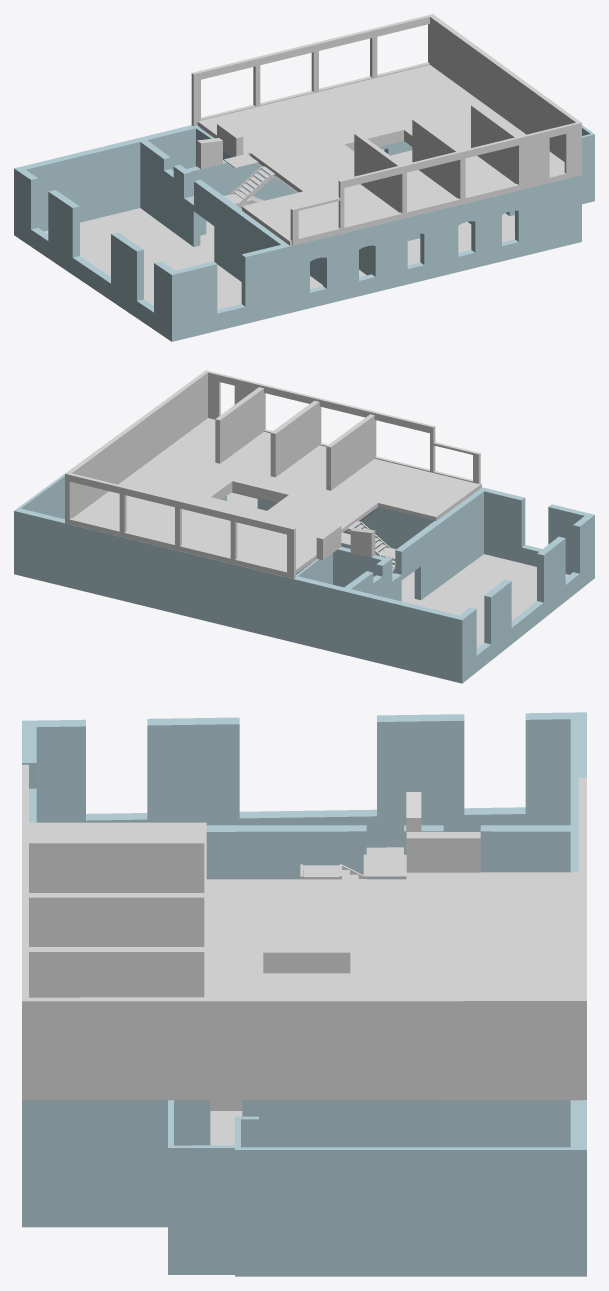
The model's file is levels-and-stairs-002.glb.
The picture shows the model from 3 angles, top to bottom: view 1: azimuth 30°, elevation 25°; view 2: azimuth 150°, elevation 25°; view 3: azimuth 270°, elevation 25°; orthographic projection. The views are drawn at different scales.
Parts seen in each view (by area): view 1: OG 2, floor-og3, OG 3 Neo, floor-og2, OG 3 inner, stairs, OG 3 Legacy.001, OG 3 Legacy.002; view 2: OG 2, floor-og3, OG 3 Neo, OG 3 inner, floor-og2, OG 3 Legacy.001, OG 3 Legacy.002, stairs; view 3: OG 2, OG 3 Neo, floor-og3, OG 3 inner, floor-og2, OG 3 Legacy.002, stairs.
Boxes of the visible parts, x1,y1,x2,y2 form: OG 2: (14,125,594,341); floor-og3: (197,65,564,245); OG 3 Neo: (191,14,581,245); floor-og2: (44,149,514,309); OG 3 inner: (354,104,519,212); stairs: (191,154,274,206); OG 3 Legacy.001: (197,138,222,168); OG 3 Legacy.002: (217,122,243,157); OG 2: (14,465,594,683); floor-og3: (73,418,481,573); OG 3 Neo: (65,370,480,578); OG 3 inner: (215,387,374,490); floor-og2: (227,492,568,648); OG 3 Legacy.001: (350,528,375,557); OG 3 Legacy.002: (316,524,341,560); stairs: (341,521,395,575); OG 2: (22,712,586,1276); OG 3 Neo: (22,764,586,1100); floor-og3: (29,822,582,1110); OG 3 inner: (29,839,204,997); floor-og2: (210,847,403,1145); OG 3 Legacy.002: (406,832,480,872); stairs: (300,854,406,879).
Bounding box in the file's own units: 34.11 × 8.21 × 18.61.
